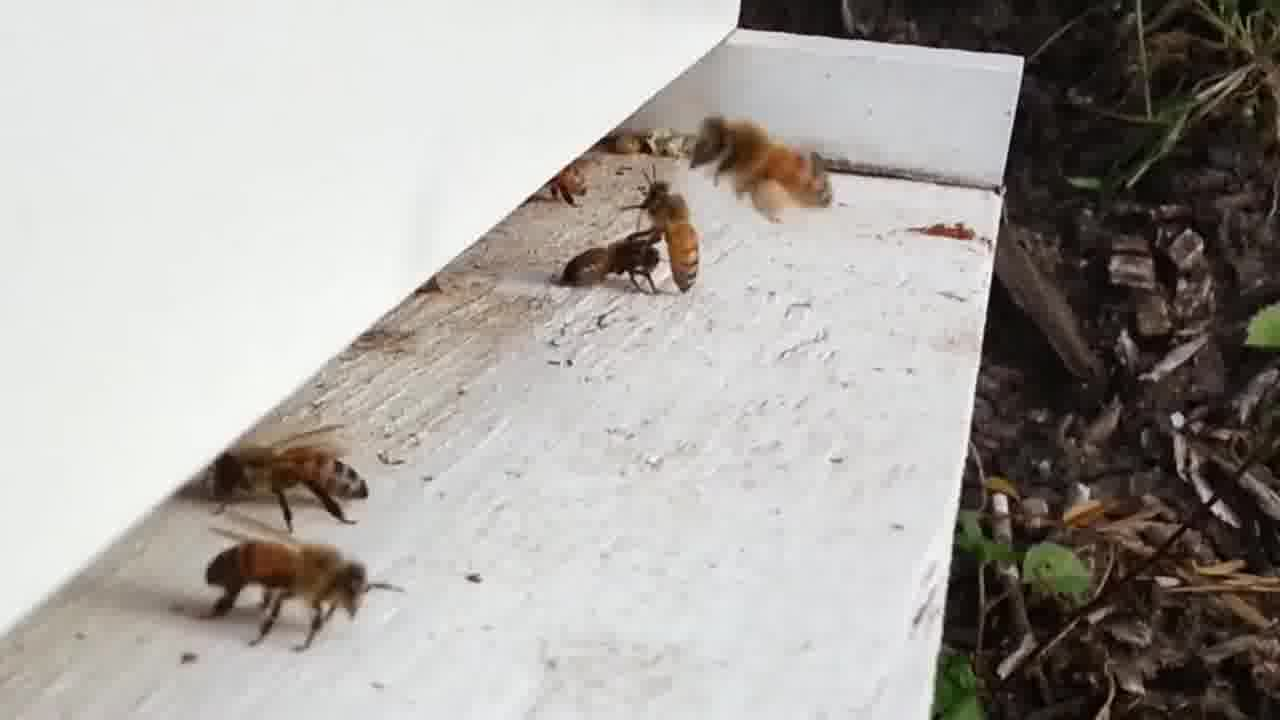pollen: (695, 112, 835, 221)
